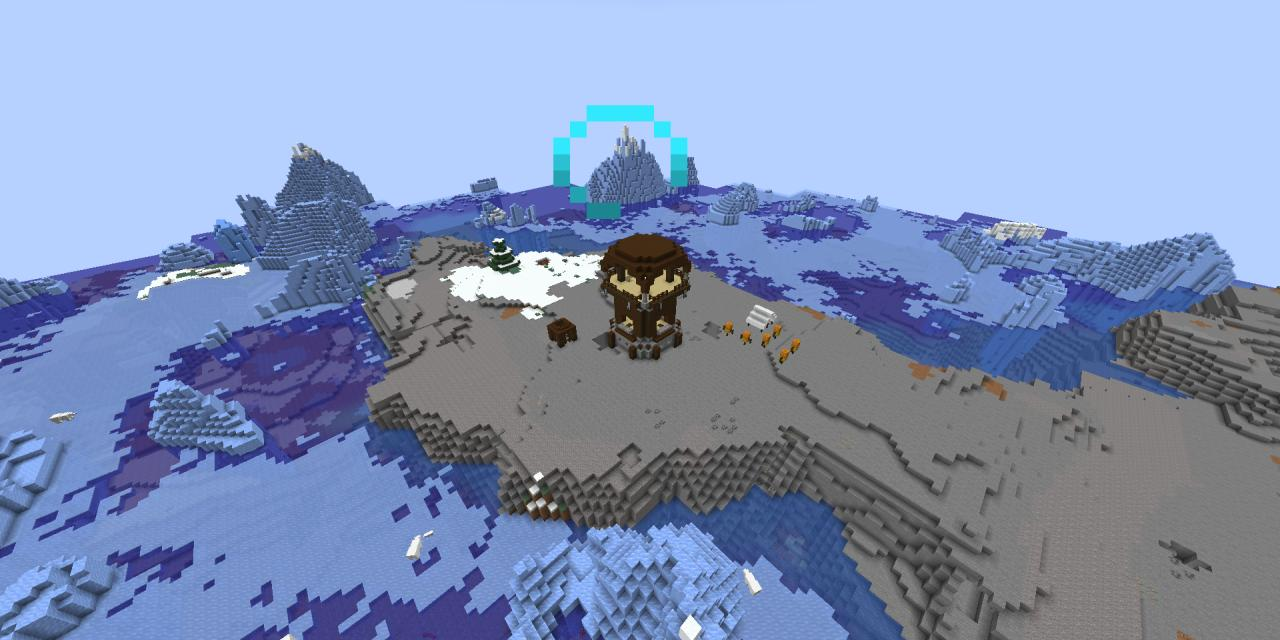pillager outpost: (595, 222, 693, 371)
